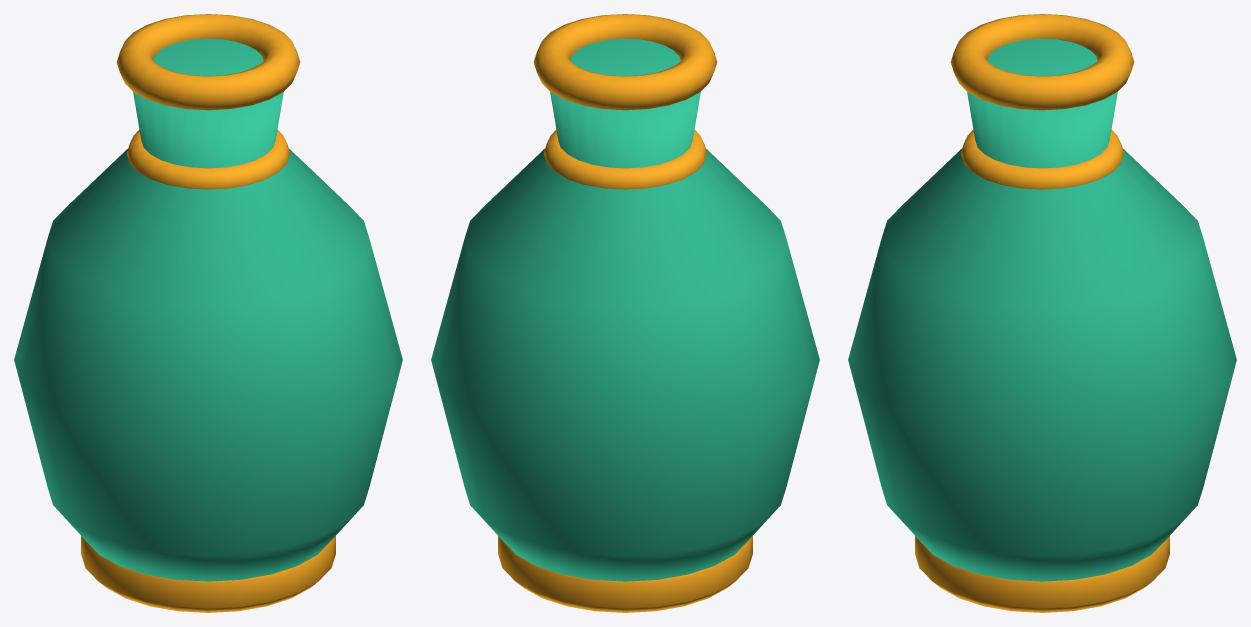
File: jadevase.glb
The picture shows the model from 3 angles, left to right: view 1: azimuth 30°, elevation 25°; view 2: azimuth 150°, elevation 25°; view 3: azimuth 270°, elevation 25°; orthographic projection.
Parts seen in each view (by area): view 1: jadevase; view 2: jadevase; view 3: jadevase.
Part boxes in pixels (x1,y1,x2,y2): jadevase: (14,14,402,612); jadevase: (431,14,819,612); jadevase: (848,14,1236,612).
Bounding box in the file's own units: 0.6808 × 1 × 0.6808.
1 material, 1 textured.
